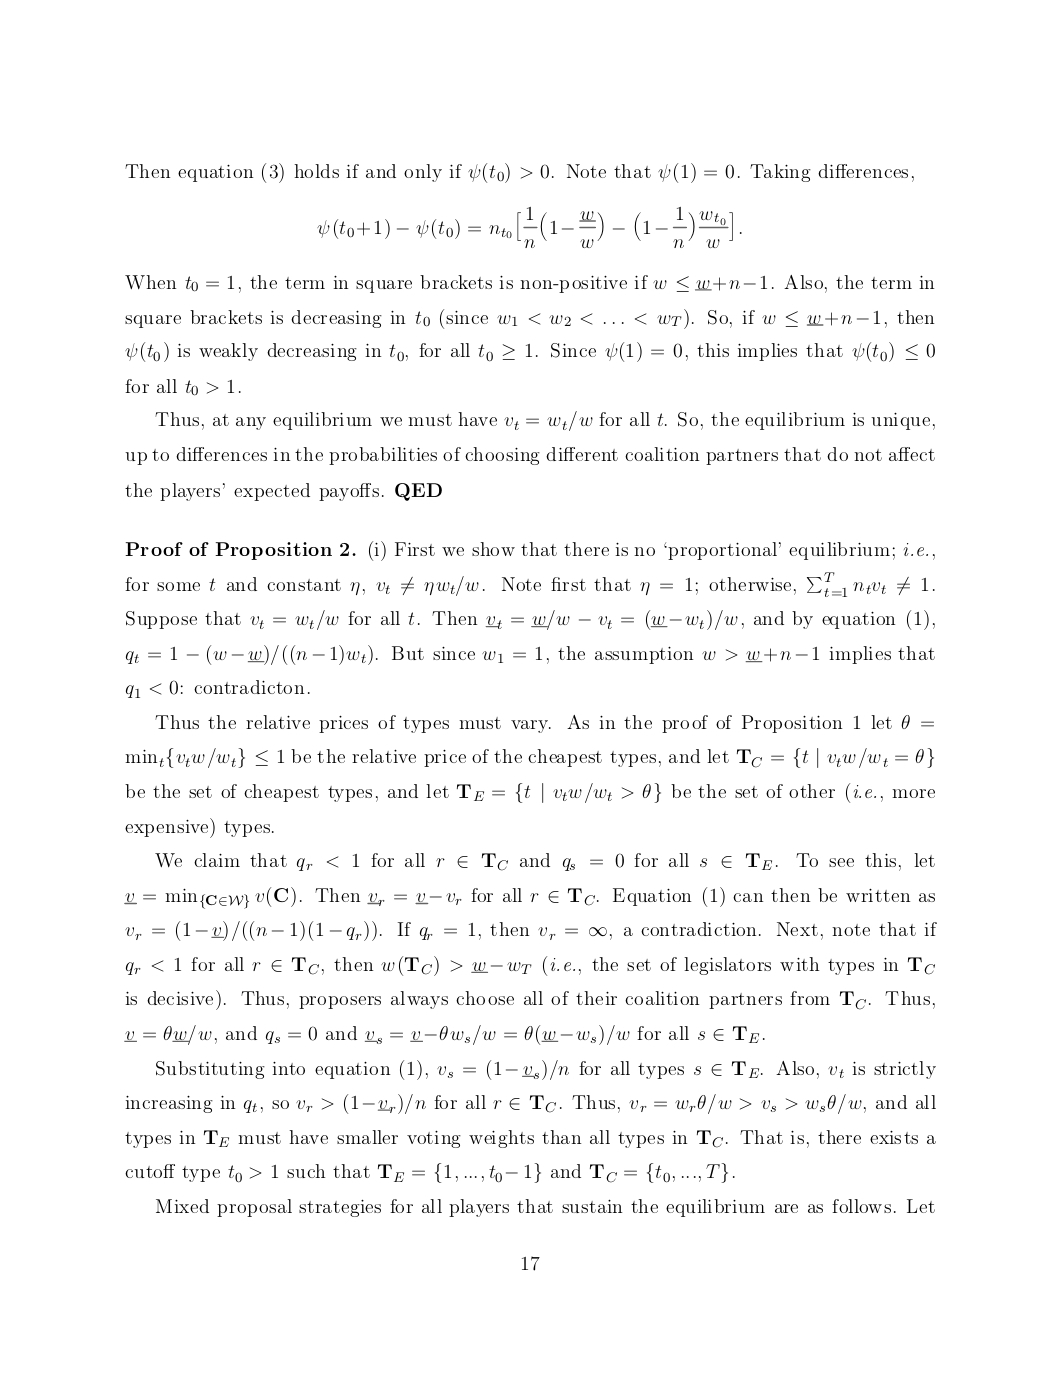formula: (317, 205, 741, 249)
